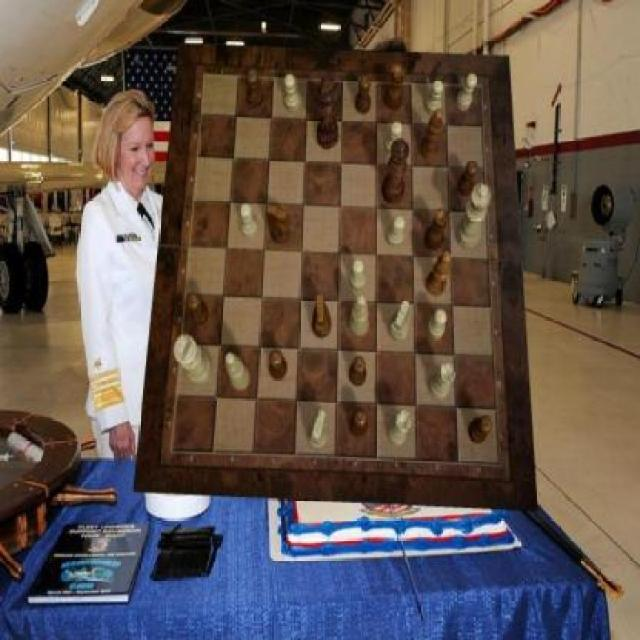bishop: (420, 108, 443, 162), (426, 251, 451, 297)
black-bishop: (317, 72, 340, 150)
black-king: (312, 294, 332, 338), (268, 206, 290, 245)
black-knight: (457, 159, 479, 196), (468, 417, 492, 445), (188, 294, 208, 326), (248, 69, 264, 108), (357, 75, 372, 114), (270, 351, 288, 382), (349, 357, 367, 388), (351, 411, 368, 438)
black-pawn: (383, 139, 411, 206)
black-queen: (425, 208, 449, 252), (384, 63, 406, 111)
black-rook: (226, 352, 251, 391), (349, 295, 369, 337)
white-bishop: (174, 334, 213, 384)
white-king: (388, 298, 410, 341), (308, 409, 328, 449)
white-knight: (455, 74, 478, 112), (240, 204, 259, 240), (386, 217, 406, 249), (425, 79, 442, 116), (428, 309, 448, 340), (284, 74, 300, 112), (385, 122, 402, 156), (349, 260, 366, 292)
white-pawn: (456, 183, 492, 249)
white-queen: (428, 363, 454, 401), (388, 410, 412, 446)
